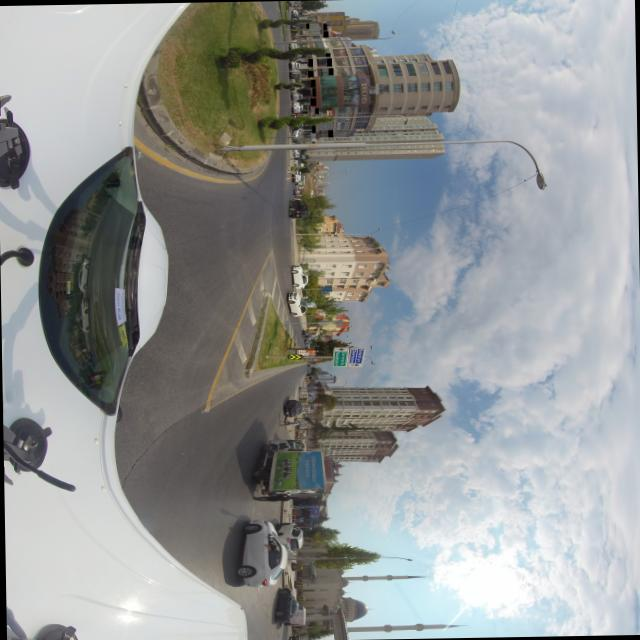SignStore: (309, 98, 315, 106), (309, 79, 314, 87), (307, 58, 311, 67), (327, 68, 332, 75), (307, 70, 312, 77), (310, 88, 314, 96), (326, 58, 330, 66), (322, 31, 327, 37), (327, 130, 331, 137), (322, 23, 326, 30), (311, 126, 314, 133), (314, 107, 317, 114), (324, 53, 329, 57), (305, 23, 308, 28)
